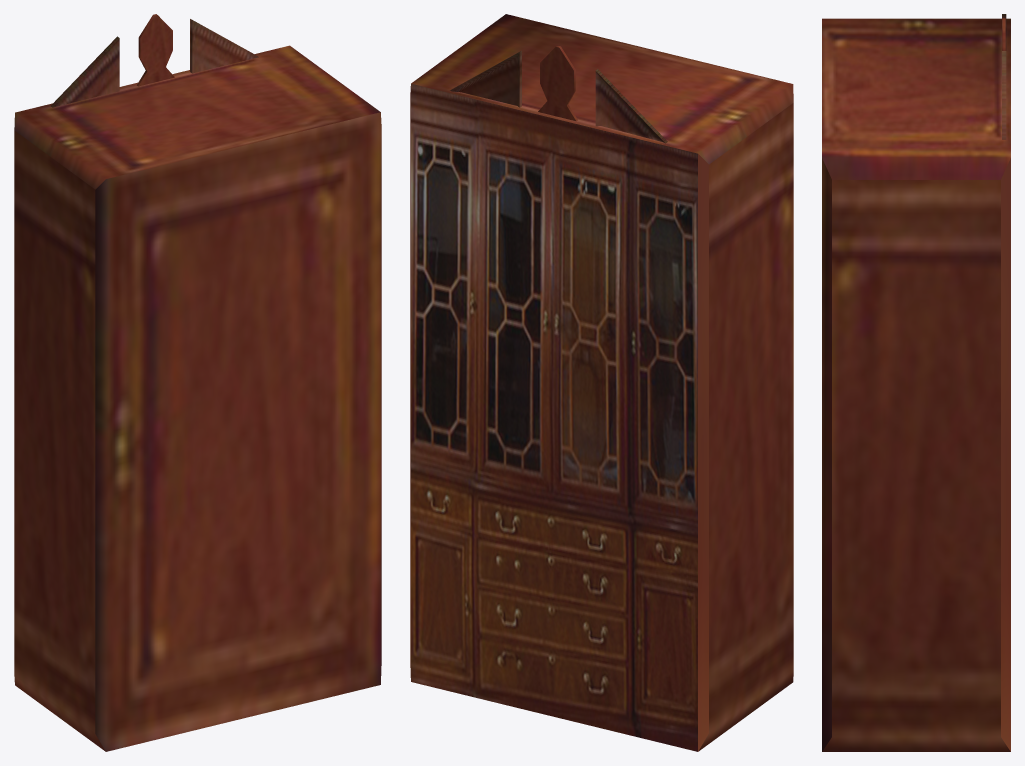
Rendered from oldbookshelf.obj.
3 renders of one model, left to right at view 1: azimuth 30°, elevation 25°; view 2: azimuth 150°, elevation 25°; view 3: azimuth 270°, elevation 25°, orthographic. The views are drawn at different scales.
Visible parts, largest first — view 1: brnimrod3; view 2: brnimrod3; view 3: brnimrod3.
Boxes of the visible parts, bbox=[...] form: brnimrod3: bbox=[14, 14, 381, 751]; brnimrod3: bbox=[410, 14, 793, 751]; brnimrod3: bbox=[822, 14, 1010, 751].
Size of the model in its own units: 82.53 by 176 by 45.5.
Materials: 1 (1 with a texture image).
